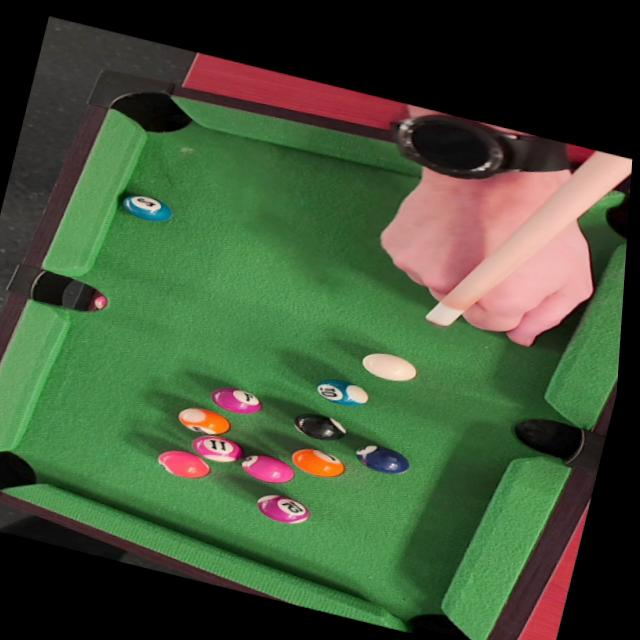cue ball: (350, 343, 426, 389)
other: (146, 438, 223, 487), (346, 434, 422, 483), (279, 403, 352, 449), (244, 486, 312, 532), (203, 380, 275, 421), (235, 448, 305, 490), (310, 372, 380, 413), (284, 442, 352, 484), (167, 398, 233, 440), (192, 429, 251, 471), (120, 192, 185, 230)
